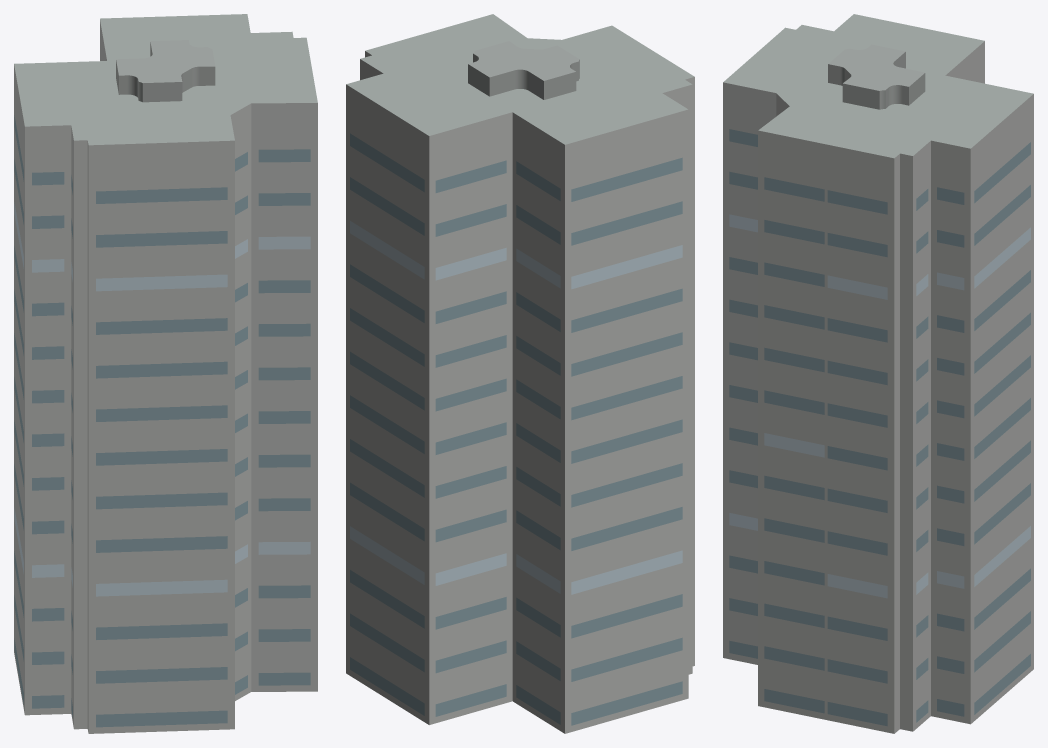
Rendered from fallback-banpo-xi-114.glb.
3 renders of one model, left to right at view 1: azimuth 30°, elevation 25°; view 2: azimuth 150°, elevation 25°; view 3: azimuth 270°, elevation 25°, orthographic. The views are drawn at different scales.
Parts seen in each view (by area): view 1: fallback-banpo-xi-114; view 2: fallback-banpo-xi-114; view 3: fallback-banpo-xi-114.
Boxes of the visible parts, bbox=[...] form: fallback-banpo-xi-114: bbox=[14, 14, 317, 733]; fallback-banpo-xi-114: bbox=[346, 14, 694, 733]; fallback-banpo-xi-114: bbox=[723, 14, 1033, 733].
Size of the model in its own units: 39.59 by 76 by 36.02.
